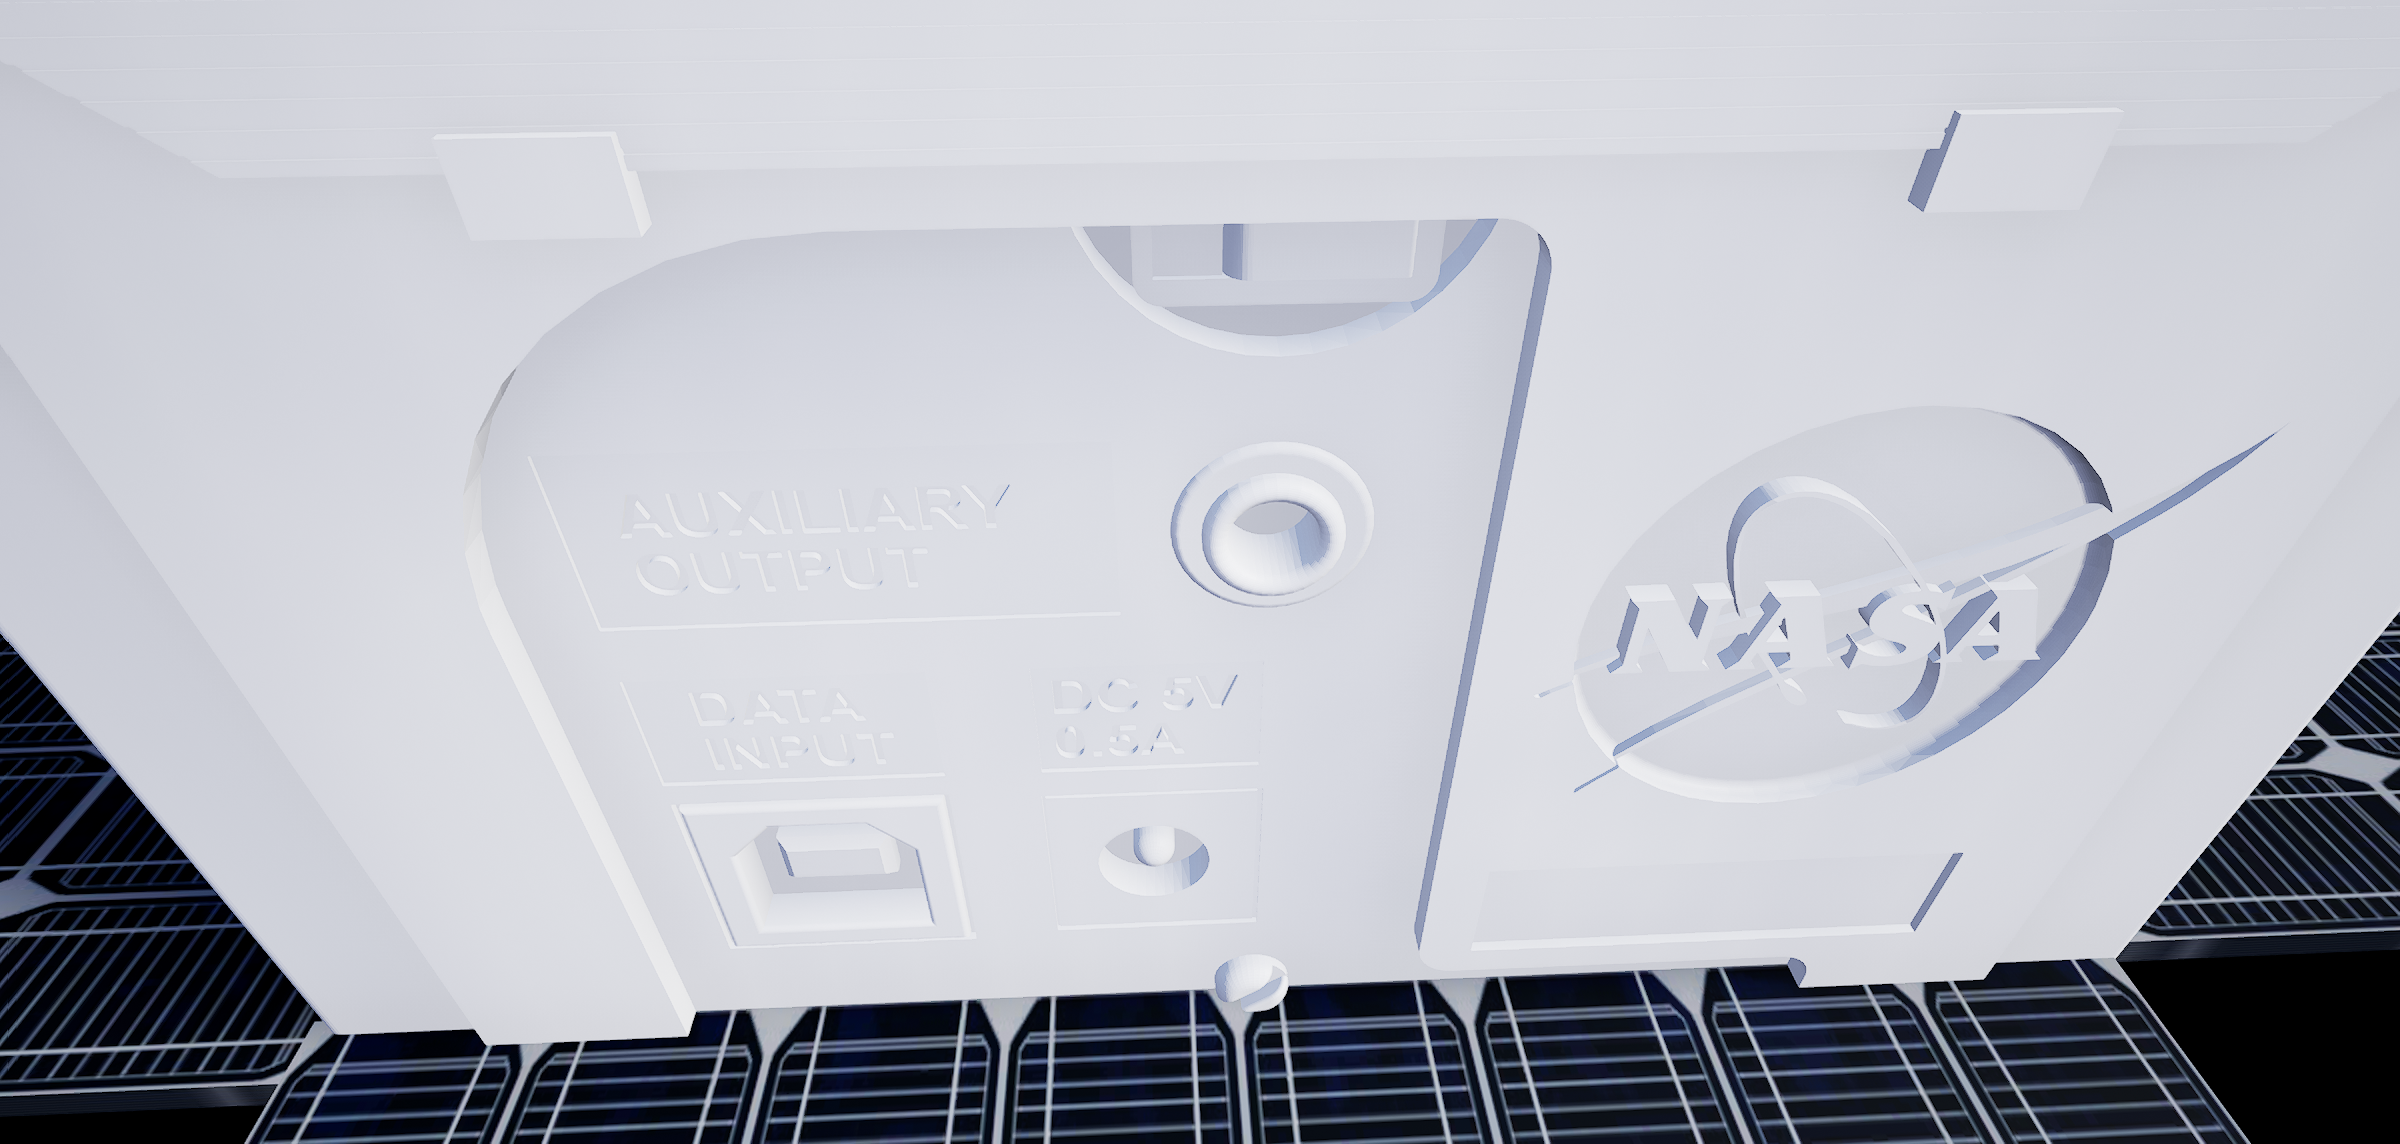aux: (1163, 436, 1378, 613)
dc: (1101, 819, 1221, 894)
usb: (716, 816, 943, 953)
